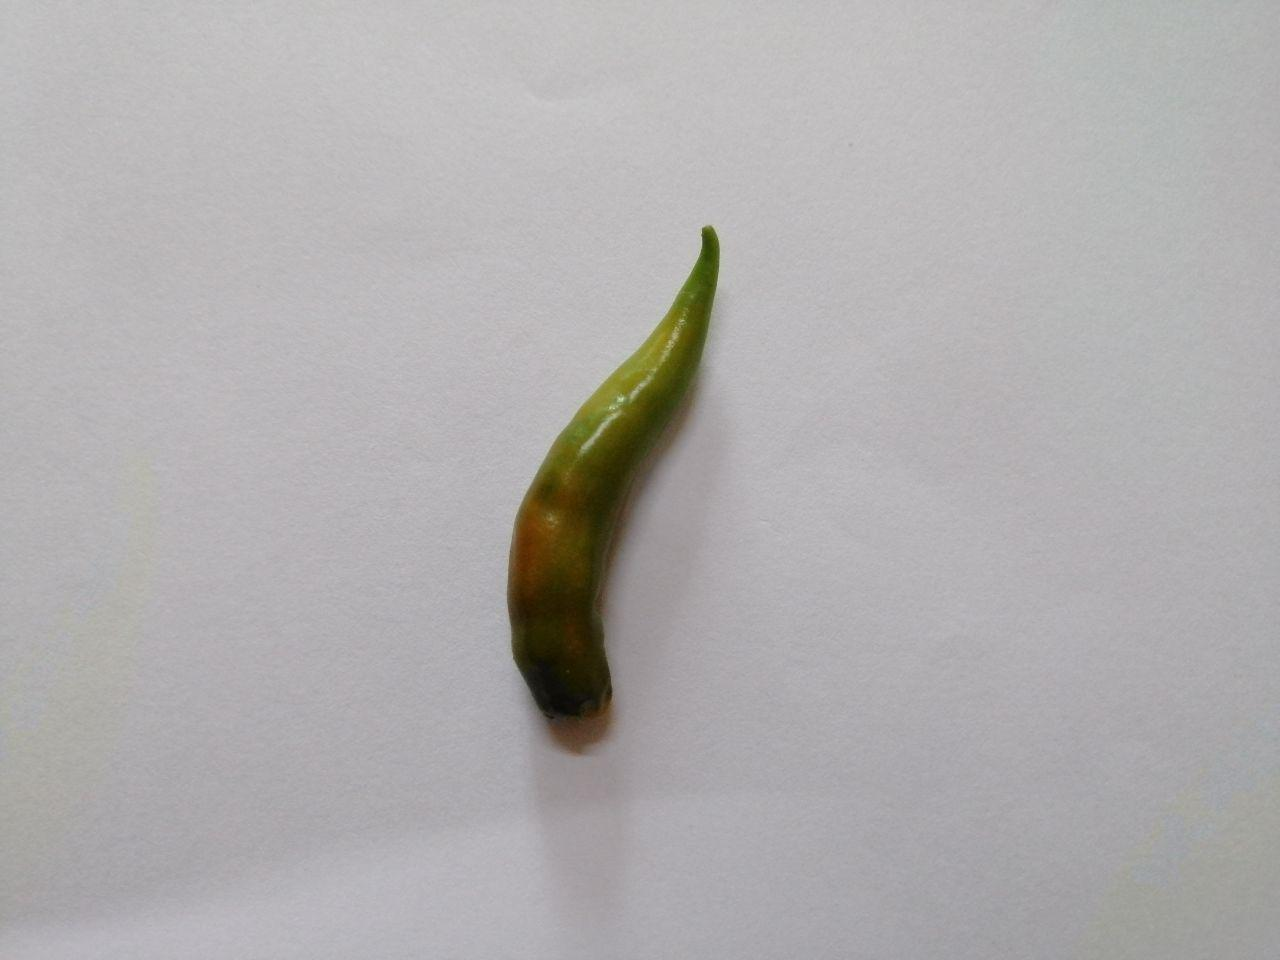lada kuning: (485, 212, 746, 749)
